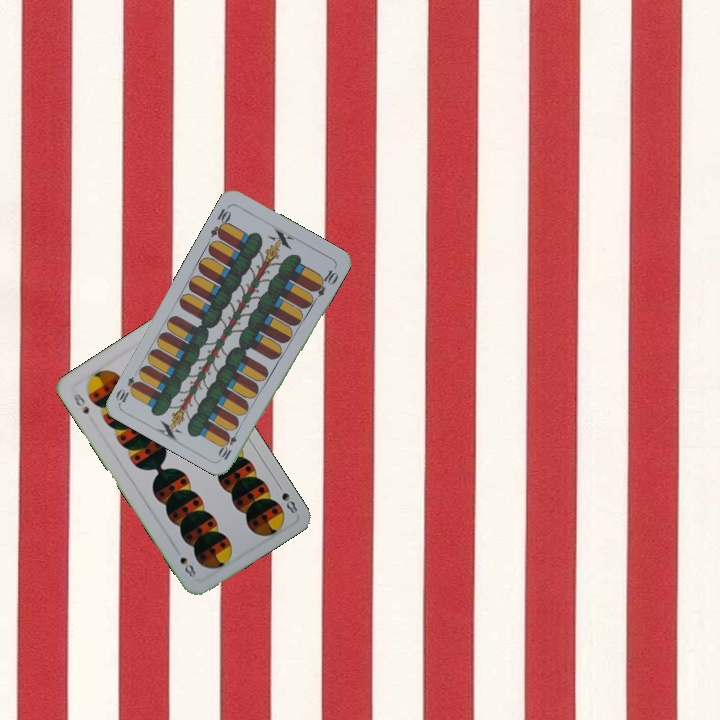E10: (206, 202, 234, 241), (216, 423, 242, 463)
S8: (273, 479, 302, 516), (69, 390, 92, 417)
